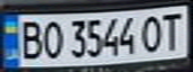3: (63, 17, 87, 60)
4: (118, 14, 142, 56), (103, 15, 124, 57)
5: (84, 16, 106, 58)
B: (15, 17, 45, 61)
O: (139, 11, 166, 54), (39, 18, 66, 60)
T: (157, 9, 187, 51)
